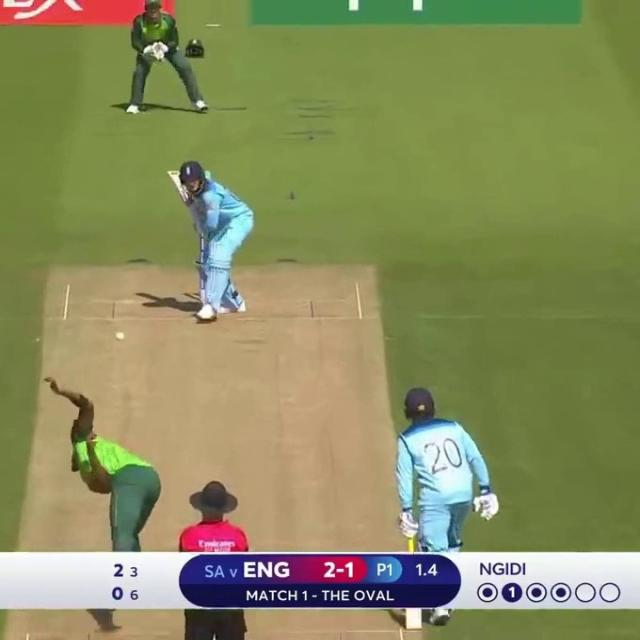bat: (167, 170, 189, 203), (405, 608, 422, 631)
toe: (407, 625, 422, 631)
